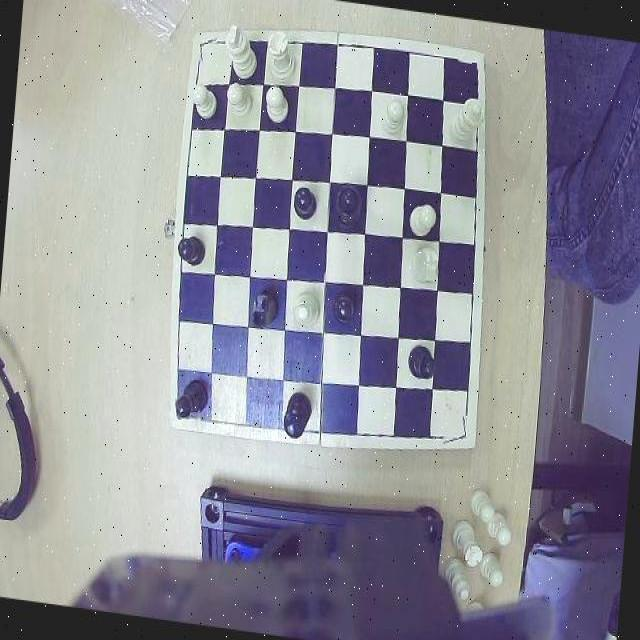chess-table-corners: (441, 414, 475, 449), (170, 396, 202, 428), (458, 54, 487, 84), (192, 31, 219, 62)
